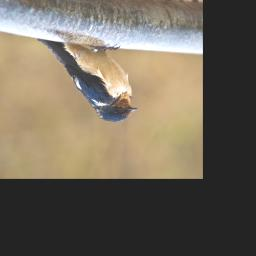Swallow: (37, 38, 139, 123)
